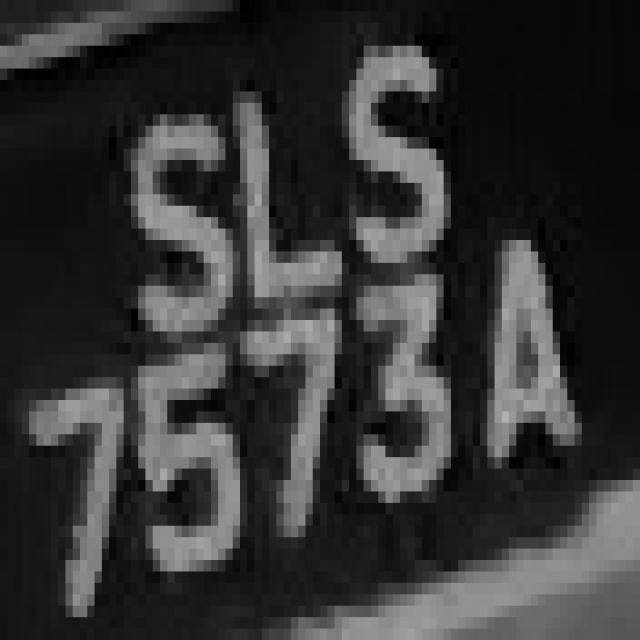3: (335, 274, 458, 537)
5: (124, 308, 262, 583)
7: (218, 308, 364, 548), (0, 343, 124, 617)
A: (444, 206, 596, 514)
L: (211, 46, 371, 320)
S: (320, 12, 465, 308), (109, 92, 240, 354)
